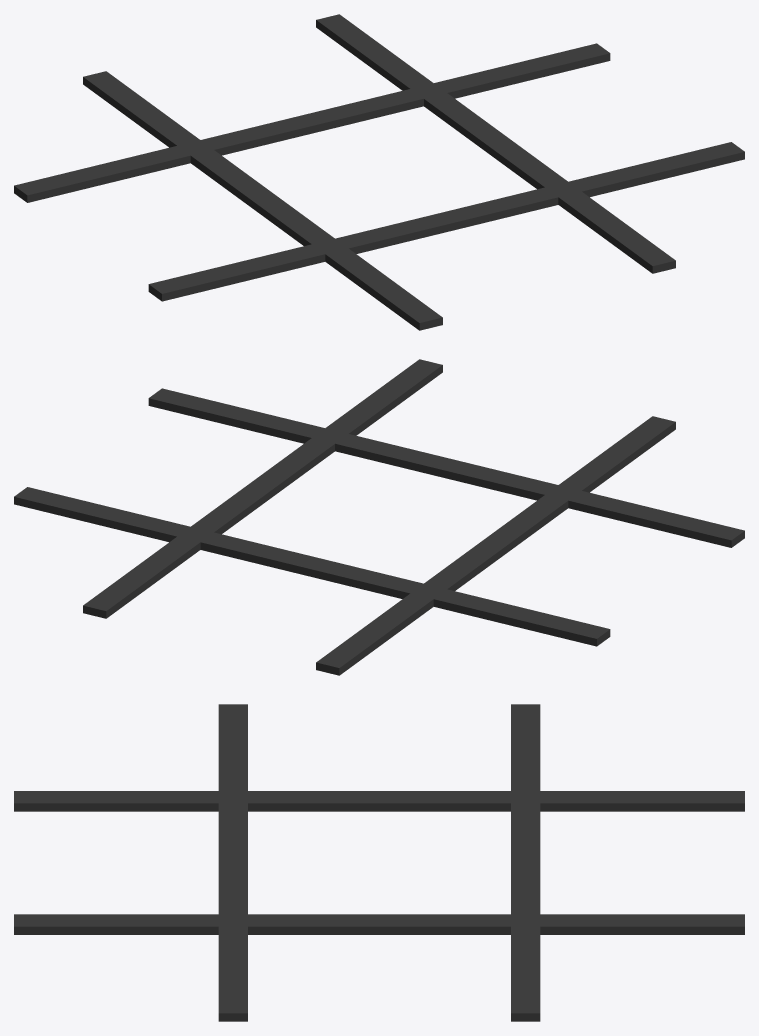
The model's file is lattice.glb.
3 views of the same model, one above another, from view 1: azimuth 30°, elevation 25°; view 2: azimuth 150°, elevation 25°; view 3: azimuth 270°, elevation 25° (orthographic). The views are drawn at different scales.
Parts seen in each view (by area): view 1: Cube; view 2: Cube; view 3: Cube.
Boxes of the visible parts, <box> form: Cube: <box>14,14,744,330</box>; Cube: <box>14,359,744,675</box>; Cube: <box>14,704,744,1021</box>.
Bounding box in the file's own units: 1 × 0.0125 × 1.
Materials: 1 (1 with a texture image).
